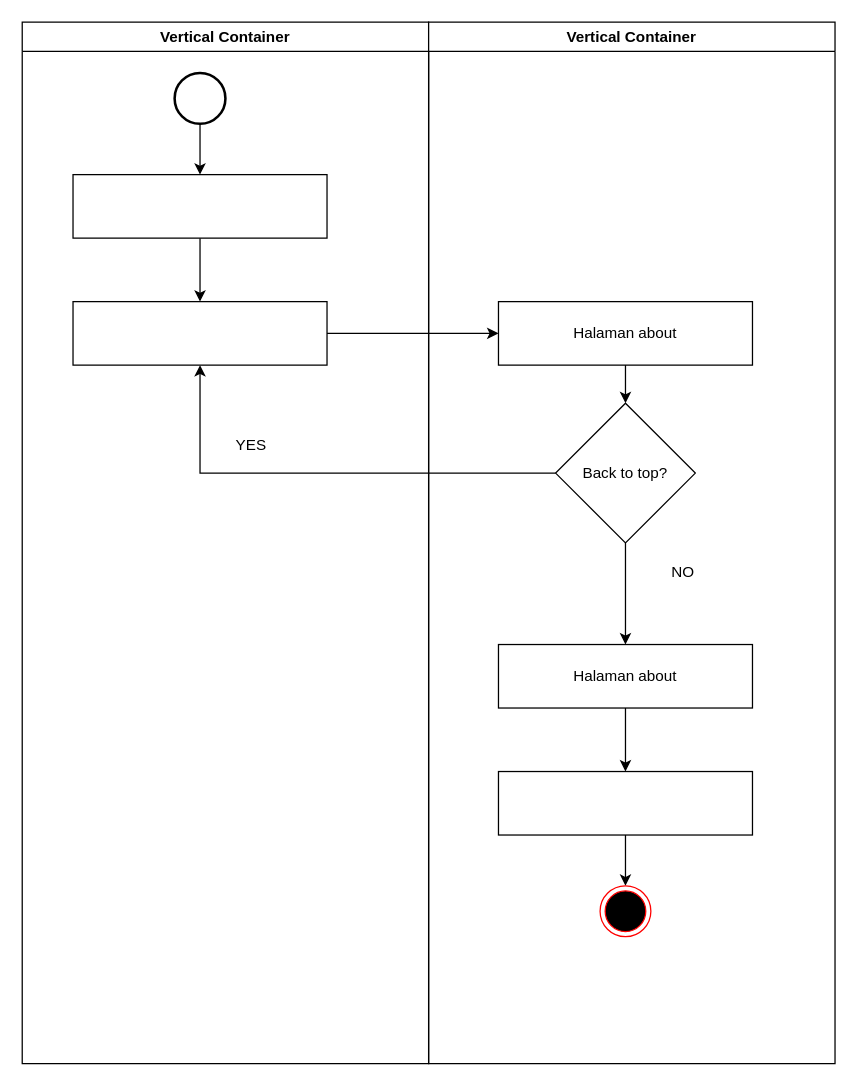
The diagram is 857 pixels wide and 1086 high, and some of its shapes have lost their labels. The shapes that lost their labels are listed below. From the top down, each one's box as (x1, y1, x2, y2) in pixels, then its label:
(72, 173, 327, 238): Tampilan menu utama
(72, 300, 327, 365): Halaman hero
(497, 770, 752, 835): Halaman partners
